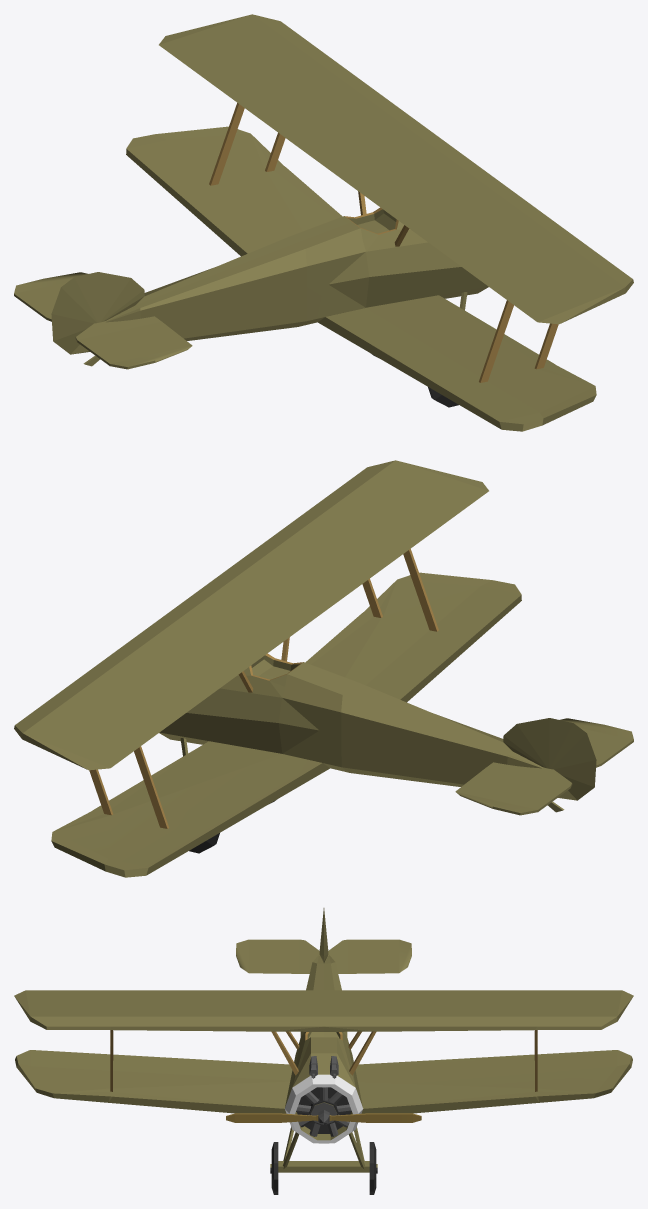
Rendered from camel.fbx.
3 views of the same model, one above another, from view 1: azimuth 30°, elevation 25°; view 2: azimuth 150°, elevation 25°; view 3: azimuth 270°, elevation 25° (orthographic). The views are drawn at different scales.
Parts seen in each view (by area): view 1: Body; view 2: Body; view 3: Body, Prop.
Part boxes in pixels (x1=…): Body: x1=14, y1=14, x2=633, y2=431; Body: x1=14, y1=460, x2=633, y2=877; Body: x1=14, y1=908, x2=633, y2=1194; Prop: x1=226, y1=1110, x2=421, y2=1124.
Size of the model in its own units: 224 by 108 by 338.
